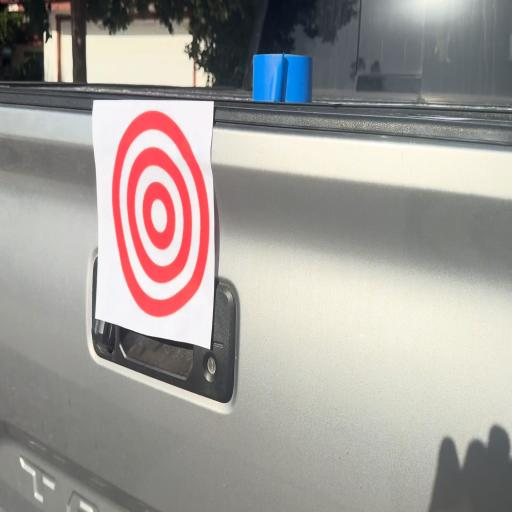bullseye: (107, 100, 211, 348)
